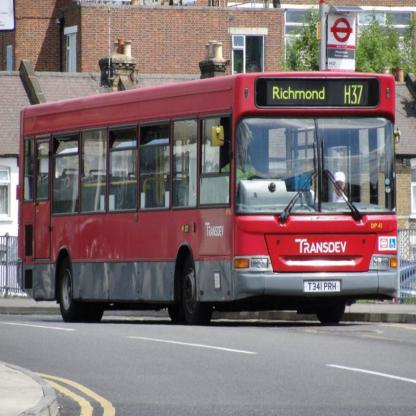Bus: (16, 68, 401, 326)
